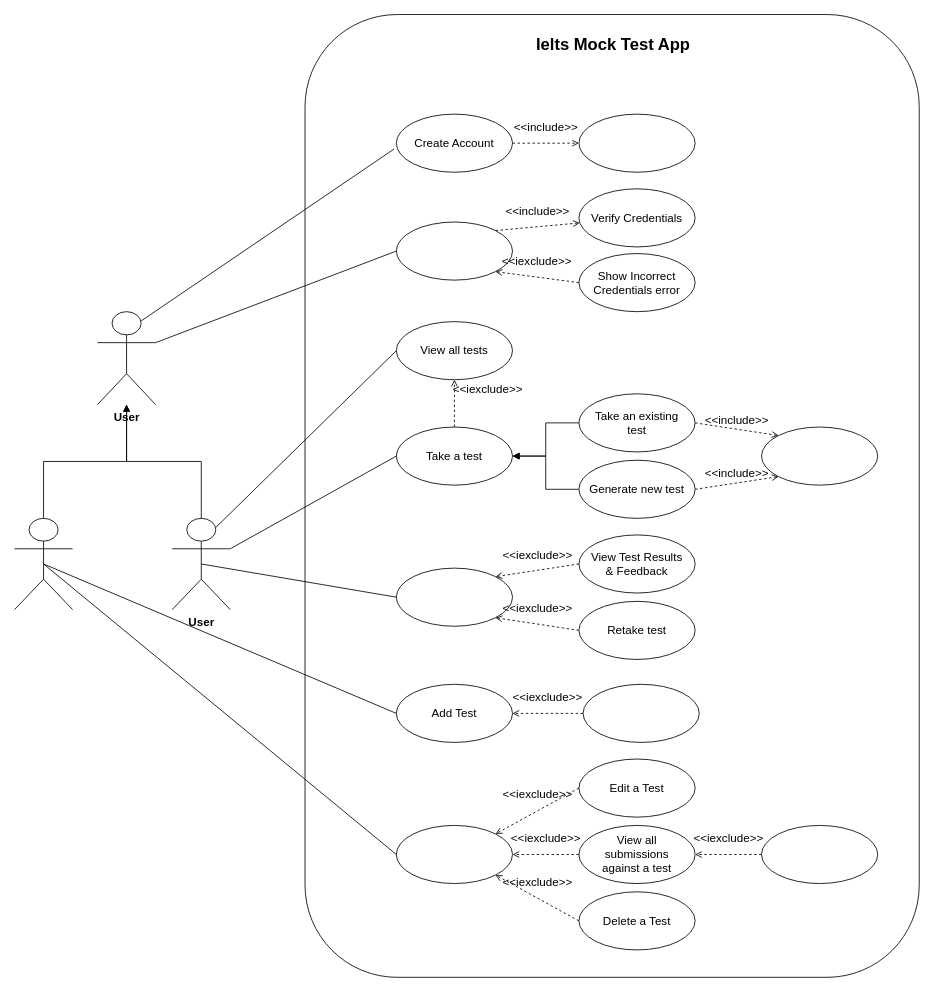
The diagram is 934 pixels wide and 992 high, and some of its shapes have lost their labels. The shapes that lost their labels are listed below. From the top down, each one's centre as x and y in pixels, then its label:
point 636,142: Verify Email
point 454,250: Login
point 819,455: AI grade test
point 43,564: Coach
point 454,596: View History of all test taken
point 640,713: Generate whole or partial using AI
point 454,854: View all Tests Created
point 819,854: Grade a submission
